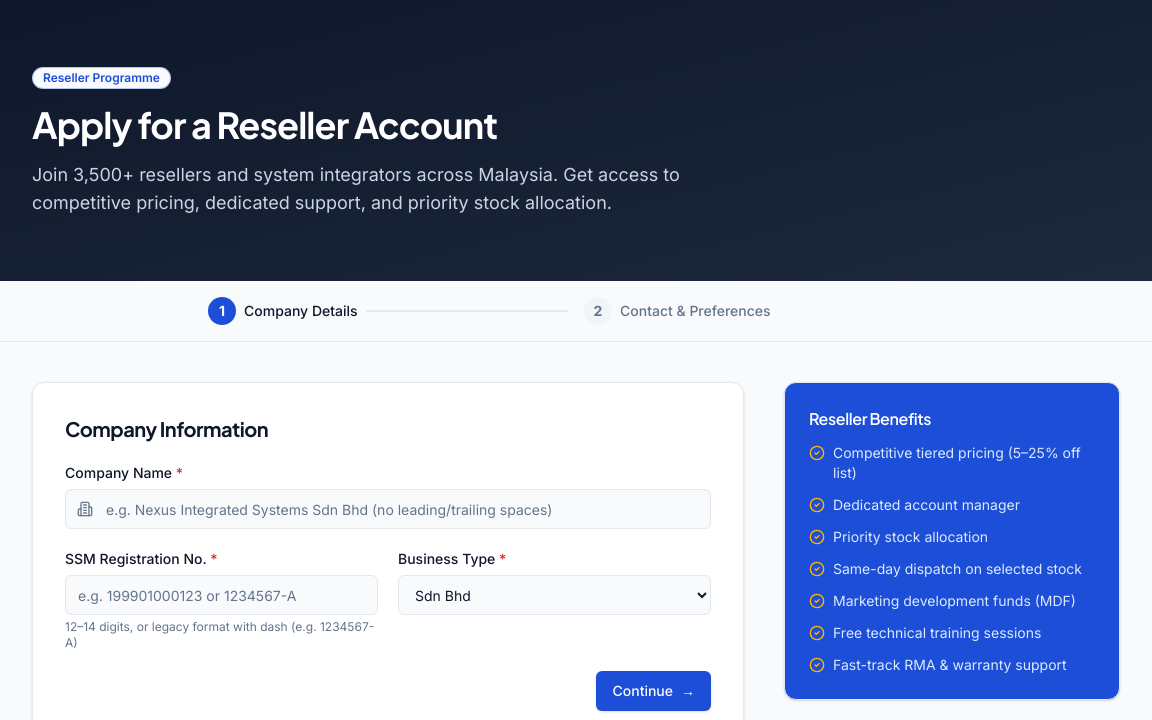
Test: ResellerRegisterPage › step 1 validation › shows error when company name is empty
Click the button "Continue →" at (654, 691), box [596,671,711,711]
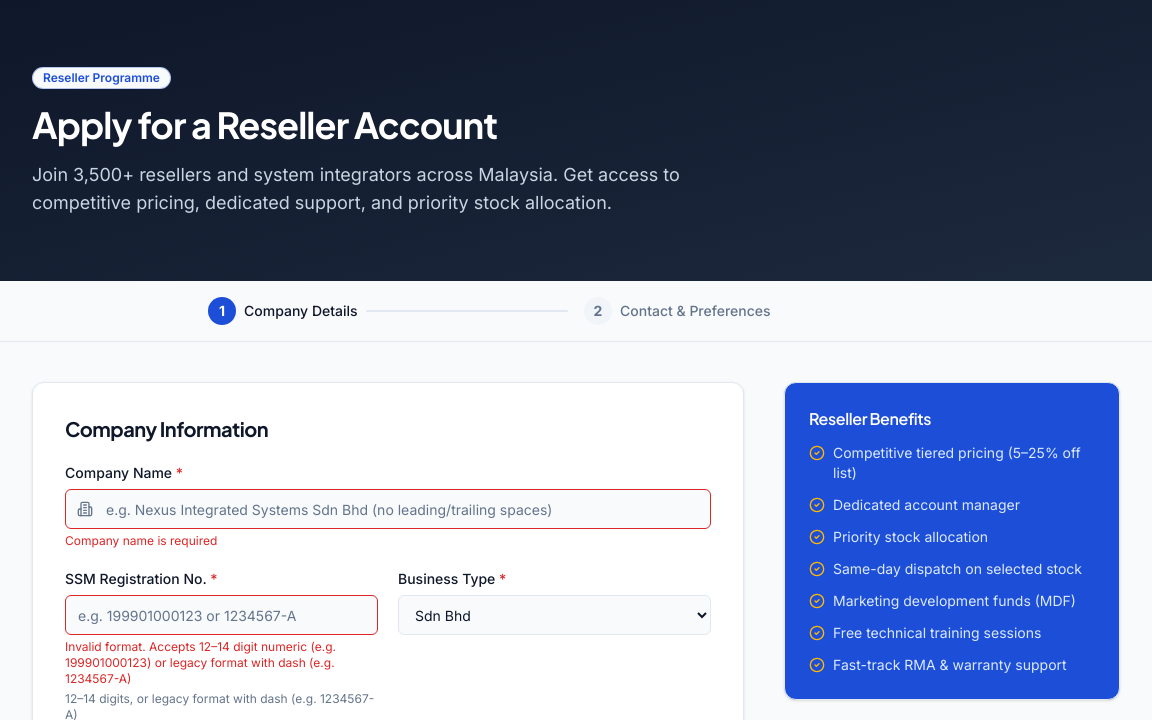
Check: the text "Company name is required" is shown, box [65,533,217,548]
